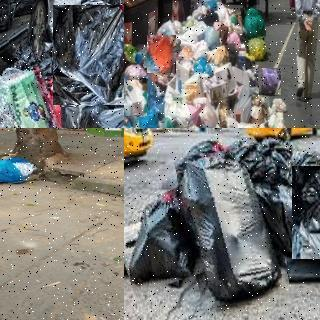Garbage: (181, 147, 285, 306), (124, 193, 201, 290), (53, 5, 124, 105), (0, 46, 64, 128), (292, 166, 320, 259), (61, 92, 124, 128), (145, 33, 179, 75), (0, 154, 37, 188), (124, 77, 147, 116), (242, 5, 265, 40), (245, 35, 267, 62), (259, 68, 281, 95)
